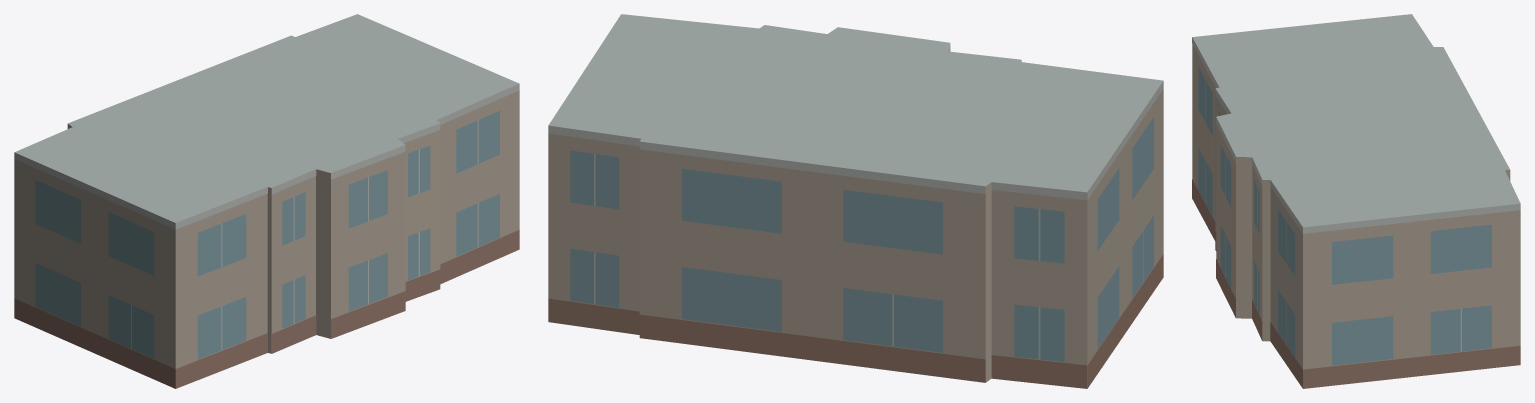
File: survey-upis-32624096.glb
The picture shows the model from 3 angles, left to right: view 1: azimuth 30°, elevation 25°; view 2: azimuth 150°, elevation 25°; view 3: azimuth 270°, elevation 25°; orthographic projection. The views are drawn at different scales.
Visible parts, largest first — view 1: survey-upis-32624096.tmp; view 2: survey-upis-32624096.tmp; view 3: survey-upis-32624096.tmp.
Boxes of the visible parts, x1,y1,x2,y2 form: survey-upis-32624096.tmp: (14, 14, 519, 388); survey-upis-32624096.tmp: (548, 14, 1163, 388); survey-upis-32624096.tmp: (1192, 14, 1520, 388).
Bounding box in the file's own units: 17.31 × 6.1 × 11.26.
